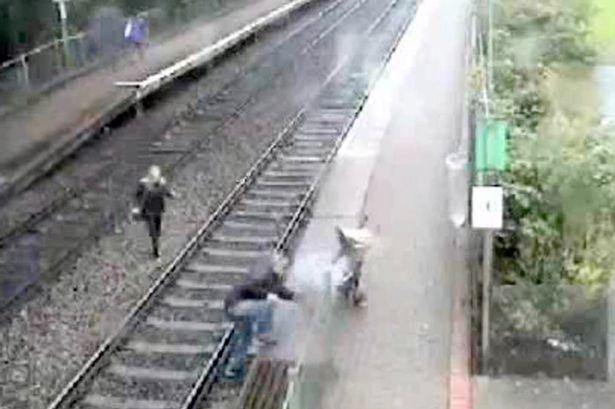person: (131, 162, 183, 261)
